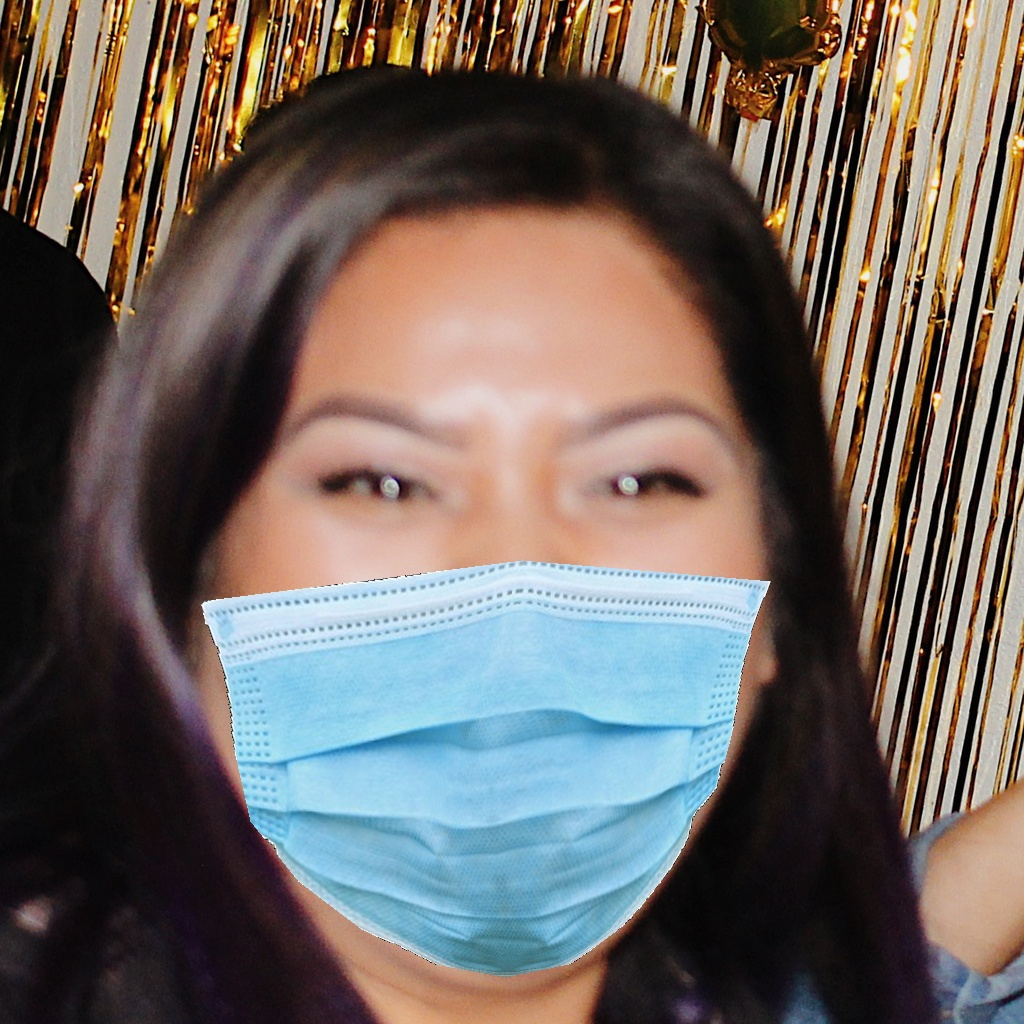Mask: (194, 392, 776, 985)
